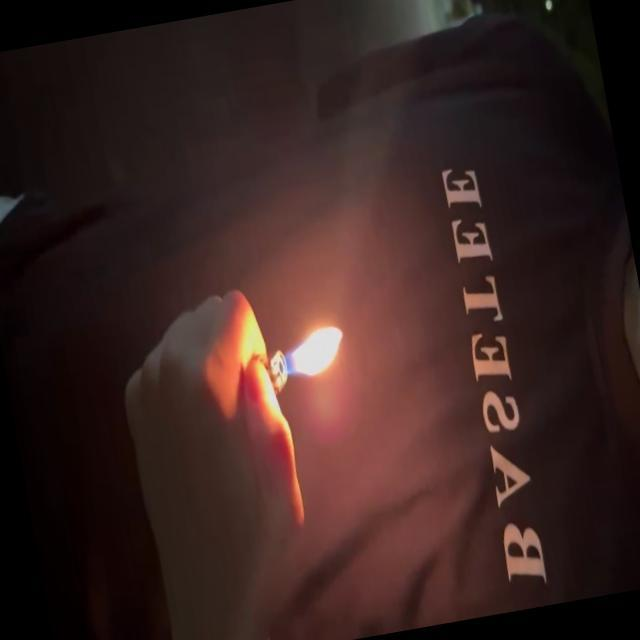Fire: (274, 321, 351, 386)
